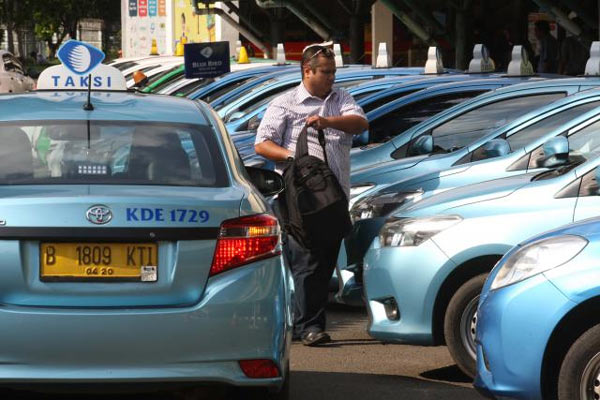plate: (43, 244, 156, 279)
